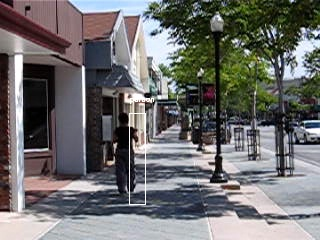person: (112, 113, 138, 196), (111, 113, 137, 196), (113, 113, 139, 196), (112, 112, 138, 195), (112, 114, 138, 197)
target_negative: (165, 74, 274, 218), (254, 75, 285, 134), (90, 30, 104, 156), (280, 116, 297, 194), (268, 21, 273, 203), (58, 233, 199, 234)
